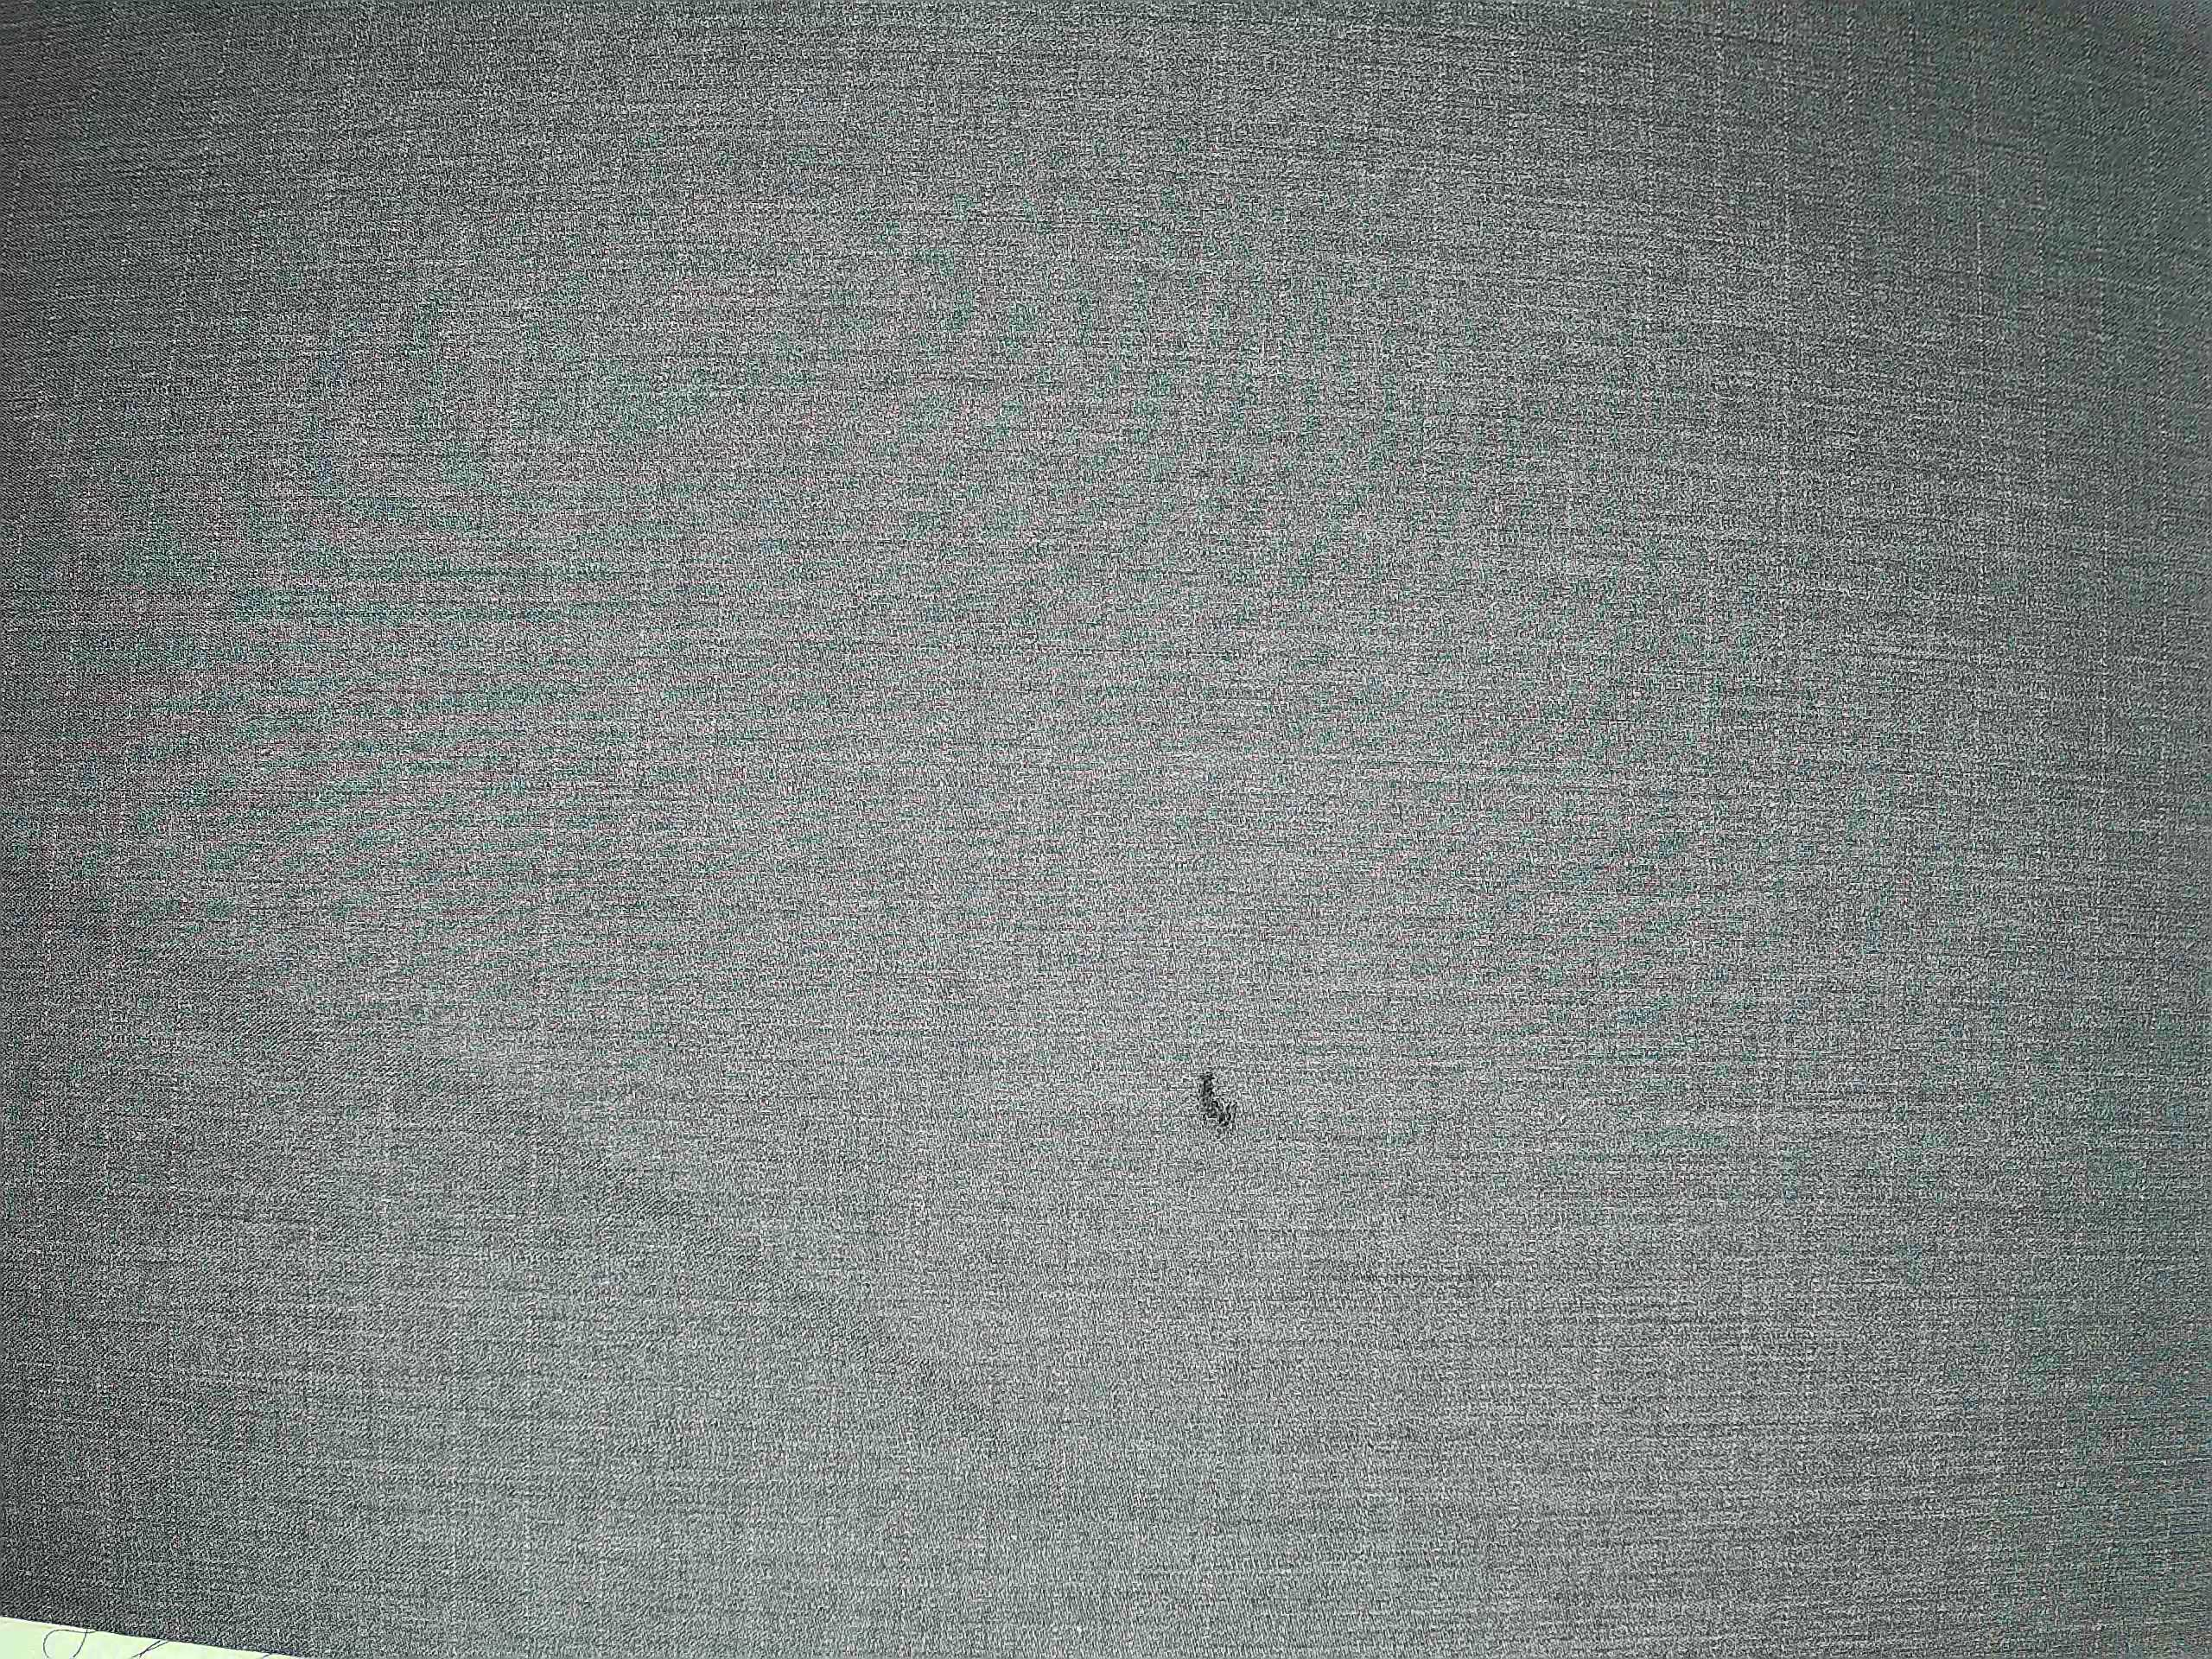puncture-hole: (1160, 1046, 1280, 1166)
